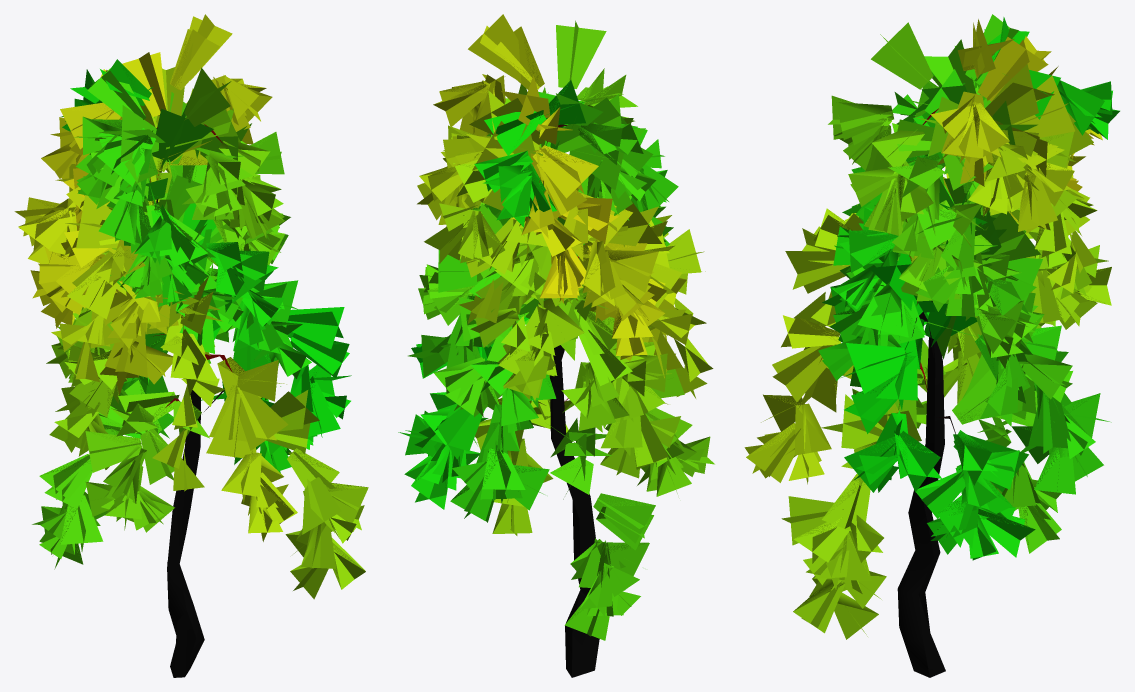
File: birch 1 lod1.FBX
The picture shows the model from 3 angles, left to right: view 1: azimuth 30°, elevation 25°; view 2: azimuth 150°, elevation 25°; view 3: azimuth 270°, elevation 25°; orthographic projection. The views are drawn at different scales.
Visible parts, largest first — view 1: birch1_LOD1; view 2: birch1_LOD1; view 3: birch1_LOD1.
Boxes of the visible parts, box(x1,y1,x2,y2) form: birch1_LOD1: box(14, 14, 368, 677); birch1_LOD1: box(398, 14, 714, 677); birch1_LOD1: box(744, 14, 1119, 677).
Bounding box in the file's own units: 75380 × 163074 × 81878.
